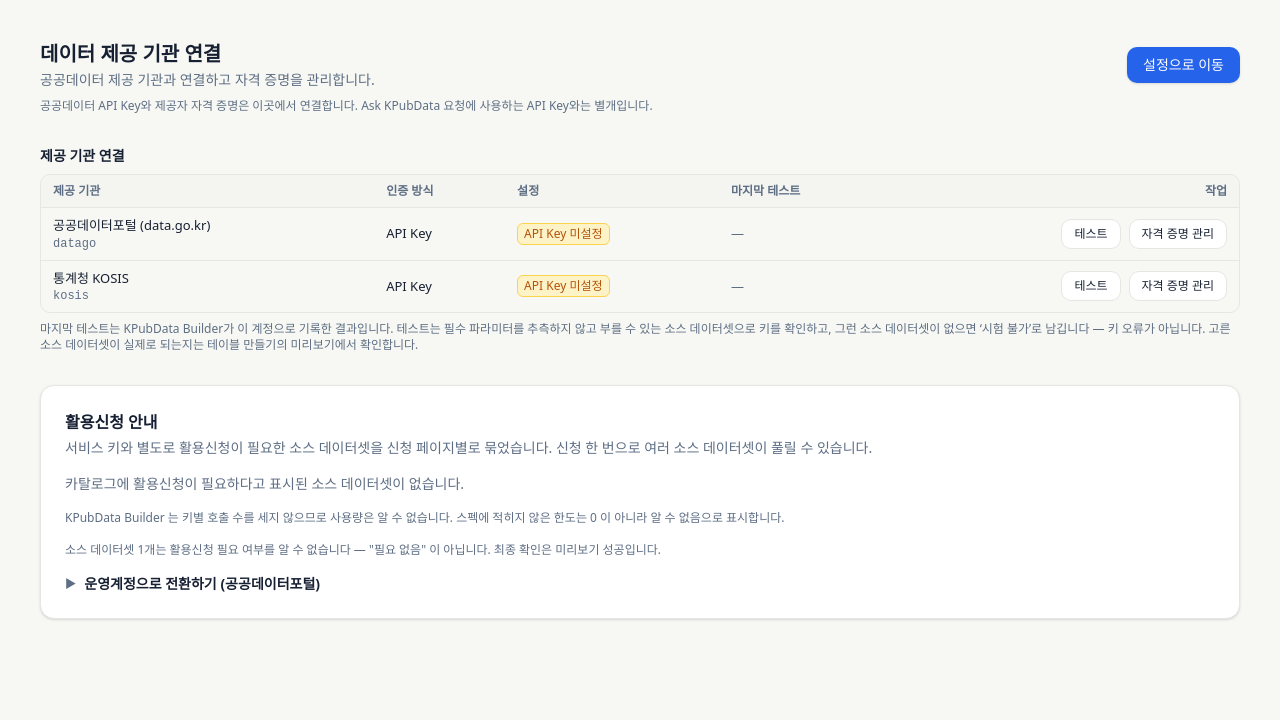
Scenario: ProviderPage credential 상태 › configured=false면 등록 CTA를 보여주고 마스킹 값/삭제 버튼은 없다
The image size is (1280, 720).
Step 1. Click the button with aria-label "자격 증명 관리 — datago" → coordinates (1178, 234), box [1128, 219, 1227, 249]
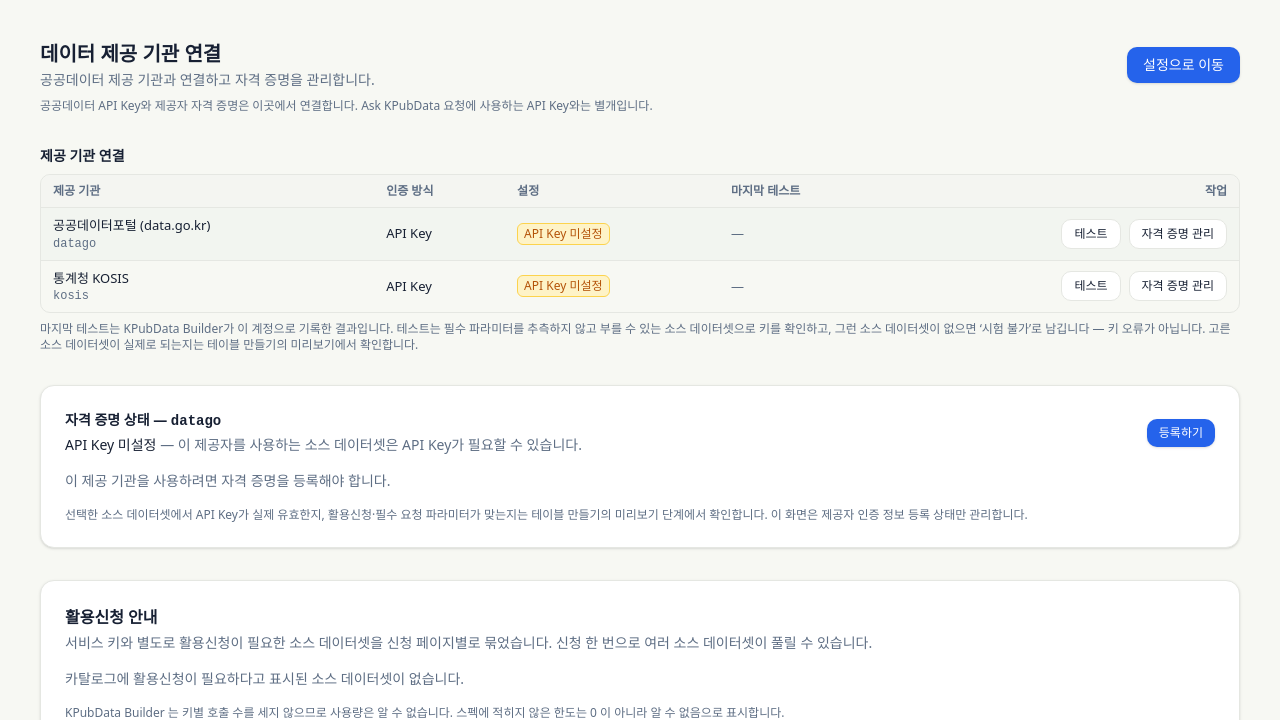
expect the button "등록하기" is shown: met, box [1147, 418, 1215, 446]
